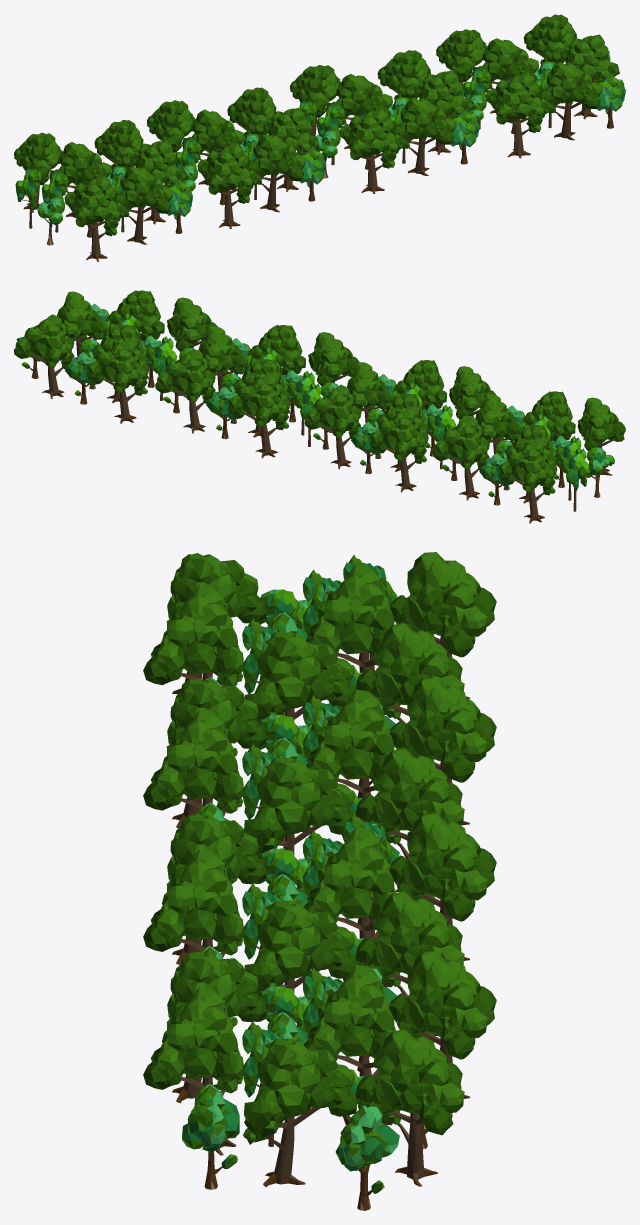
The model's file is bosque2.obj.
The picture shows the model from 3 angles, top to bottom: view 1: azimuth 30°, elevation 25°; view 2: azimuth 150°, elevation 25°; view 3: azimuth 270°, elevation 25°; orthographic projection. The views are drawn at different scales.
Visible parts, largest first — view 1: bosque.001__6_tree.023, bosque.001__6_tree.029, bosque.001__6_tree.011, bosque.001__6_tree.017, bosque.001__6_tree.028, bosque.001__6_tree.022, bosque.001__6_tree.016, bosque.001__6_tree.010, bosque.001__6_tree.020, bosque.001__6_tree.026, bosque.001__6_tree.025, bosque.001__6_tree.019 (+23 smaller); view 2: bosque.001__6_tree.021, bosque.001__6_tree.027, bosque.001__6_tree.024, bosque.001__6_tree.018, bosque.001__6_tree.015, bosque.001__6_tree.009, bosque.001__6_tree.012, bosque.001__6_tree.006, bosque.001__6_tree.029, bosque.001__6_tree.017, bosque.001__6_tree.026, bosque.001__6_tree.020 (+26 smaller); view 3: bosque.001__6_tree.020, bosque.001__6_tree.018, bosque.001__6_tree.027, bosque.001__6_tree.021, bosque.001__6_tree.022, bosque.001__6_tree.009, bosque.001__6_tree.008, bosque.001__6_tree.015, bosque.001__6_tree.028, bosque.001__6_tree.026, bosque.001__6_tree.010, bosque.001__6_tree.016 (+26 smaller).
Boxes of the visible parts, left/top/right/bottom form: bosque.001__6_tree.023: left=485, top=72, right=550, bottom=158; bosque.001__6_tree.029: left=339, top=108, right=404, bottom=193; bosque.001__6_tree.011: left=197, top=143, right=258, bottom=228; bosque.001__6_tree.017: left=64, top=176, right=125, bottom=261; bosque.001__6_tree.028: left=391, top=98, right=456, bottom=175; bosque.001__6_tree.022: left=538, top=62, right=602, bottom=140; bosque.001__6_tree.016: left=113, top=166, right=173, bottom=244; bosque.001__6_tree.010: left=246, top=134, right=305, bottom=212; bosque.001__6_tree.020: left=560, top=34, right=619, bottom=119; bosque.001__6_tree.026: left=414, top=70, right=473, bottom=154; bosque.001__6_tree.025: left=326, top=74, right=392, bottom=149; bosque.001__6_tree.019: left=472, top=38, right=538, bottom=113; bosque.001__6_tree.021: left=86, top=339, right=149, bottom=423; bosque.001__6_tree.027: left=228, top=374, right=290, bottom=458; bosque.001__6_tree.024: left=155, top=349, right=215, bottom=433; bosque.001__6_tree.018: left=14, top=314, right=74, bottom=398; bosque.001__6_tree.015: left=498, top=439, right=557, bottom=523; bosque.001__6_tree.009: left=370, top=408, right=428, bottom=492; bosque.001__6_tree.012: left=433, top=416, right=489, bottom=500; bosque.001__6_tree.006: left=304, top=384, right=361, bottom=469; bosque.001__6_tree.029: left=308, top=332, right=359, bottom=386; bosque.001__6_tree.017: left=577, top=397, right=625, bottom=477; bosque.001__6_tree.026: left=198, top=326, right=247, bottom=390; bosque.001__6_tree.020: left=57, top=291, right=105, bottom=356; bosque.001__6_tree.020: left=243, top=1038, right=357, bottom=1187; bosque.001__6_tree.018: left=356, top=1029, right=464, bottom=1186; bosque.001__6_tree.027: left=389, top=813, right=496, bottom=960; bosque.001__6_tree.021: left=389, top=951, right=496, bottom=1098; bosque.001__6_tree.022: left=143, top=986, right=243, bottom=1155; bosque.001__6_tree.009: left=389, top=677, right=496, bottom=825; bosque.001__6_tree.008: left=244, top=757, right=356, bottom=857; bosque.001__6_tree.015: left=389, top=552, right=496, bottom=698; bosque.001__6_tree.028: left=143, top=848, right=243, bottom=957; bosque.001__6_tree.026: left=244, top=900, right=356, bottom=995; bosque.001__6_tree.010: left=143, top=709, right=243, bottom=816; bosque.001__6_tree.016: left=143, top=584, right=243, bottom=743.
Bounding box in the file's own units: 21.05 × 2.64 × 5.64.
